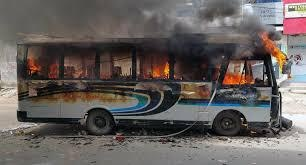fire: (217, 32, 289, 86), (151, 59, 173, 78), (26, 53, 39, 72)
